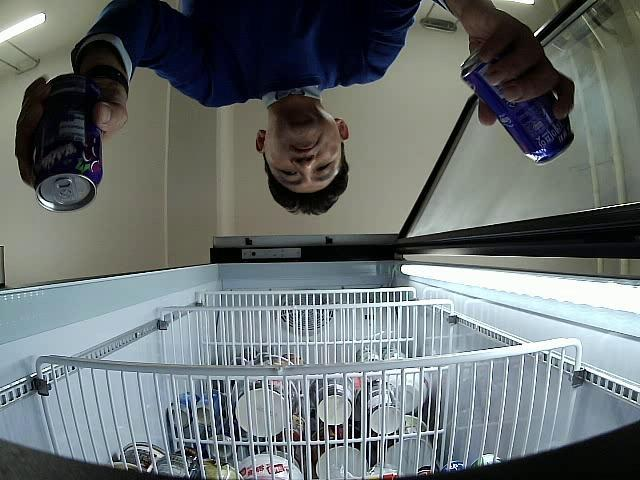14_welchsGrape: (462, 48, 574, 164), (35, 73, 103, 211)
